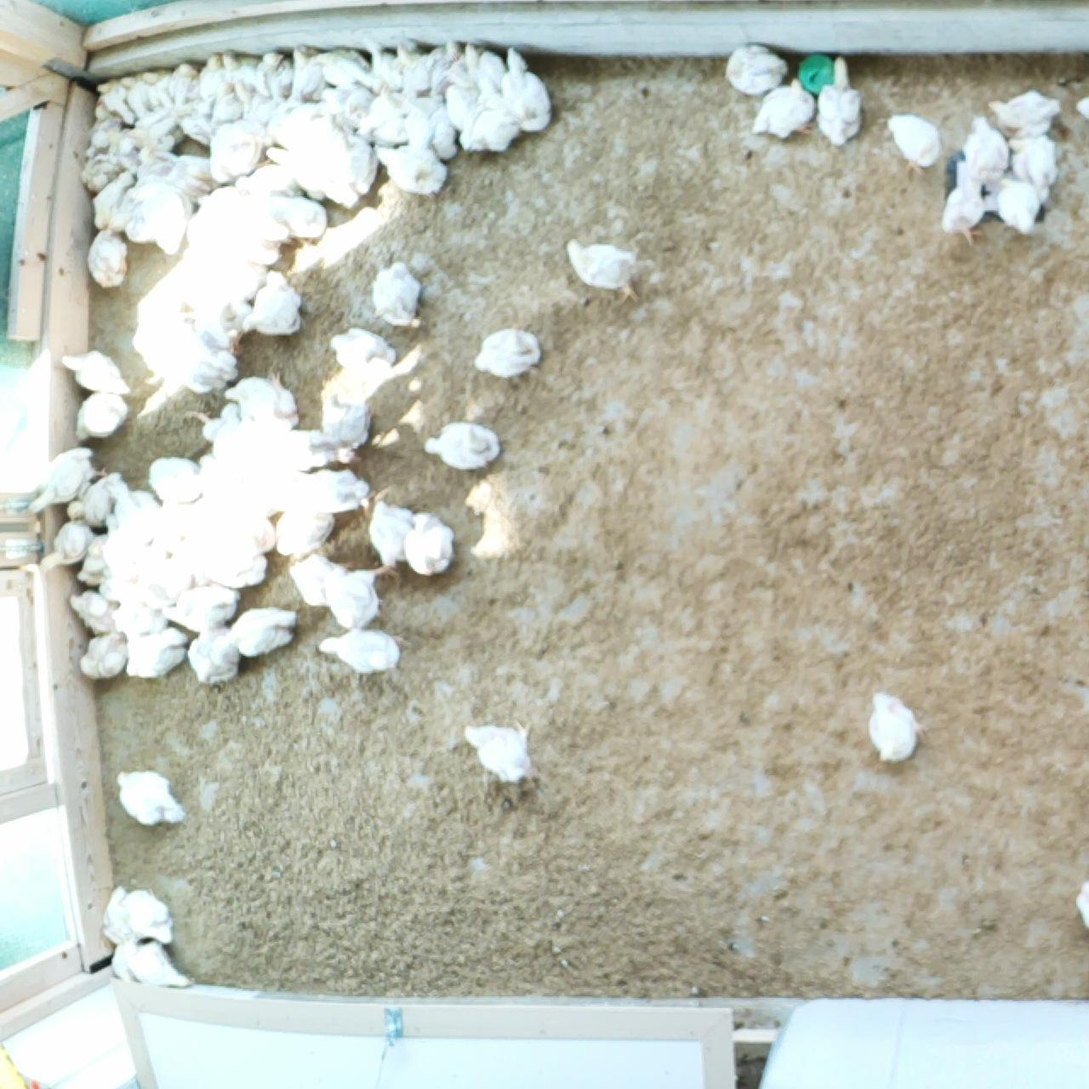chicken: (453, 707, 548, 797), (181, 398, 269, 481), (556, 232, 645, 308), (262, 145, 361, 209), (26, 445, 109, 520), (110, 762, 189, 840), (862, 683, 932, 767), (748, 72, 826, 145), (121, 181, 196, 256), (320, 560, 397, 630), (225, 600, 305, 667), (238, 265, 306, 341), (457, 74, 520, 155), (222, 366, 303, 429), (1003, 127, 1066, 207), (318, 623, 413, 676), (815, 53, 867, 147), (502, 43, 554, 134), (984, 80, 1065, 138), (720, 35, 794, 98), (181, 539, 274, 589), (961, 107, 1016, 191), (419, 416, 504, 470), (202, 117, 270, 184), (268, 425, 361, 473), (885, 107, 944, 182), (124, 935, 197, 993), (159, 579, 242, 630), (290, 467, 378, 515), (373, 140, 450, 194), (285, 550, 354, 610), (401, 507, 460, 577), (368, 258, 425, 330), (124, 624, 192, 682), (66, 468, 133, 526), (367, 497, 418, 573), (270, 503, 340, 558), (185, 624, 243, 690), (472, 327, 548, 377), (937, 169, 985, 248), (31, 516, 95, 574), (117, 885, 175, 949), (58, 348, 132, 397), (110, 476, 164, 543), (72, 383, 132, 443), (198, 450, 256, 511), (82, 224, 132, 292), (168, 351, 243, 396), (994, 174, 1045, 240), (262, 193, 334, 239), (320, 387, 376, 446), (88, 164, 135, 234), (268, 102, 330, 155), (423, 34, 470, 102), (146, 451, 204, 506), (138, 533, 191, 592), (326, 320, 397, 364), (143, 542, 193, 604), (283, 42, 329, 109), (76, 632, 134, 684), (208, 510, 279, 552), (311, 45, 378, 89), (101, 512, 142, 581), (84, 93, 124, 161), (66, 586, 123, 633), (368, 84, 411, 144), (106, 595, 171, 634), (460, 41, 509, 92), (343, 133, 383, 194), (441, 73, 483, 131), (167, 150, 221, 195), (234, 160, 303, 195), (391, 33, 432, 91), (128, 144, 184, 185), (251, 49, 295, 101), (235, 78, 278, 130), (102, 882, 136, 947), (125, 110, 181, 149), (73, 154, 121, 199), (429, 98, 461, 159), (368, 37, 406, 88), (401, 95, 436, 149), (96, 572, 150, 607), (97, 78, 137, 125), (105, 936, 145, 983), (197, 51, 226, 115), (217, 50, 263, 90), (165, 58, 200, 109), (212, 80, 249, 128), (172, 102, 214, 144), (101, 128, 144, 169), (339, 85, 376, 131), (107, 183, 140, 231), (77, 533, 105, 583), (118, 72, 149, 117), (141, 66, 172, 110), (321, 82, 358, 115), (1069, 875, 1089, 931), (121, 627, 122, 627)
